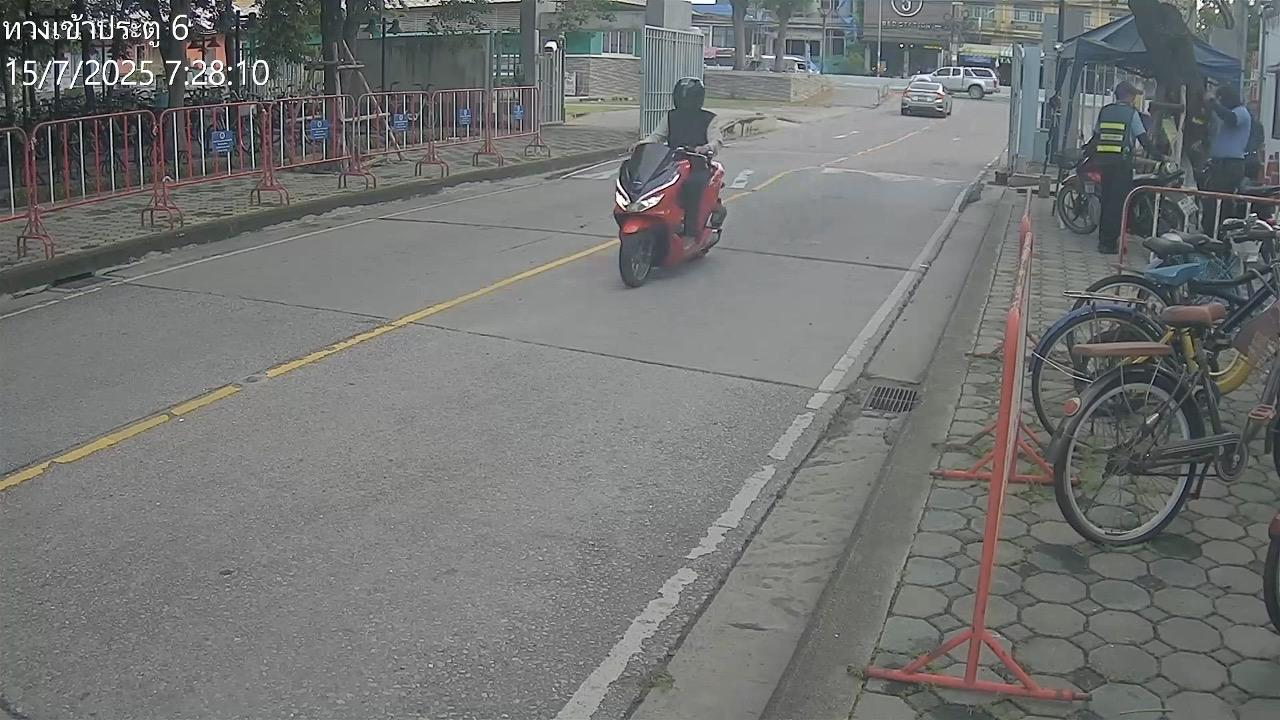With-Helmet: (672, 76, 704, 109)
